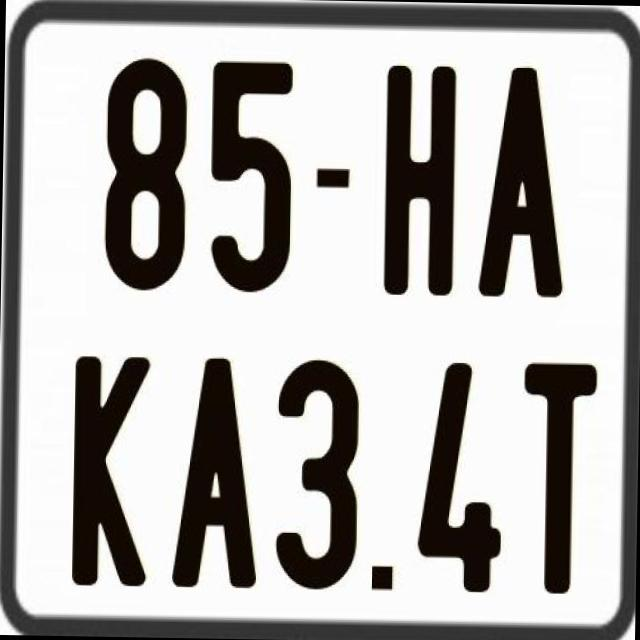3: (272, 358, 360, 596)
4: (416, 358, 504, 598)
5: (205, 56, 292, 296)
8: (103, 52, 195, 296)
A: (168, 354, 264, 586), (475, 64, 563, 304)
H: (382, 62, 456, 294)
K: (72, 351, 150, 584)
T: (516, 362, 594, 600)
